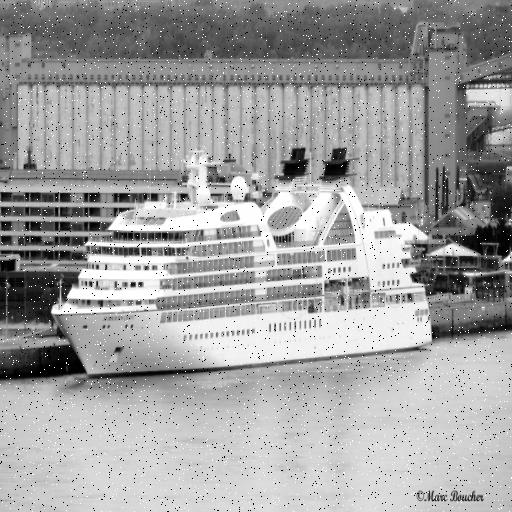cruises: (50, 138, 435, 383)
